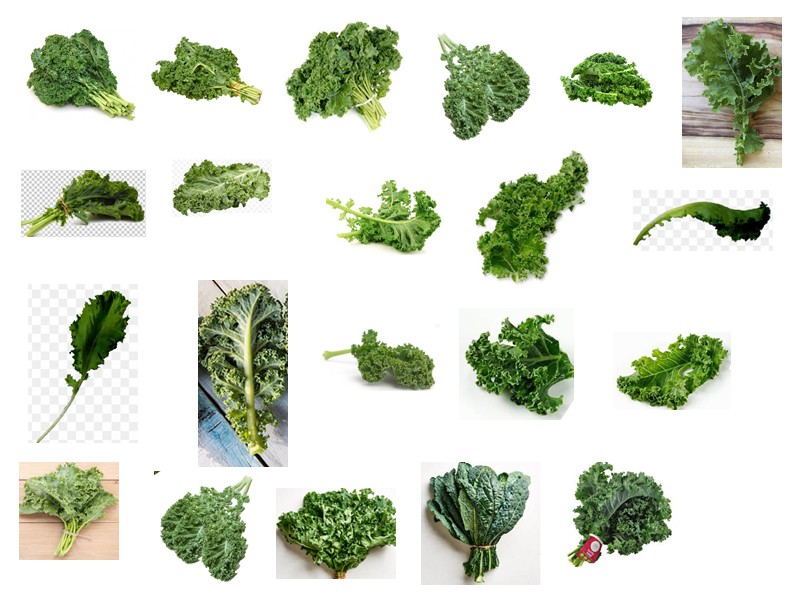curly kale: (470, 150, 591, 277), (30, 283, 127, 437), (202, 282, 284, 453), (567, 457, 685, 571), (283, 20, 403, 128), (686, 22, 775, 164), (427, 23, 531, 143), (21, 23, 141, 125), (430, 459, 528, 583), (461, 313, 577, 415), (280, 482, 395, 579), (159, 479, 256, 580), (613, 329, 728, 414), (635, 185, 773, 255), (323, 178, 441, 254), (320, 325, 437, 396), (25, 466, 114, 558), (153, 34, 258, 110), (24, 169, 143, 234), (168, 155, 276, 216), (559, 52, 656, 112)
